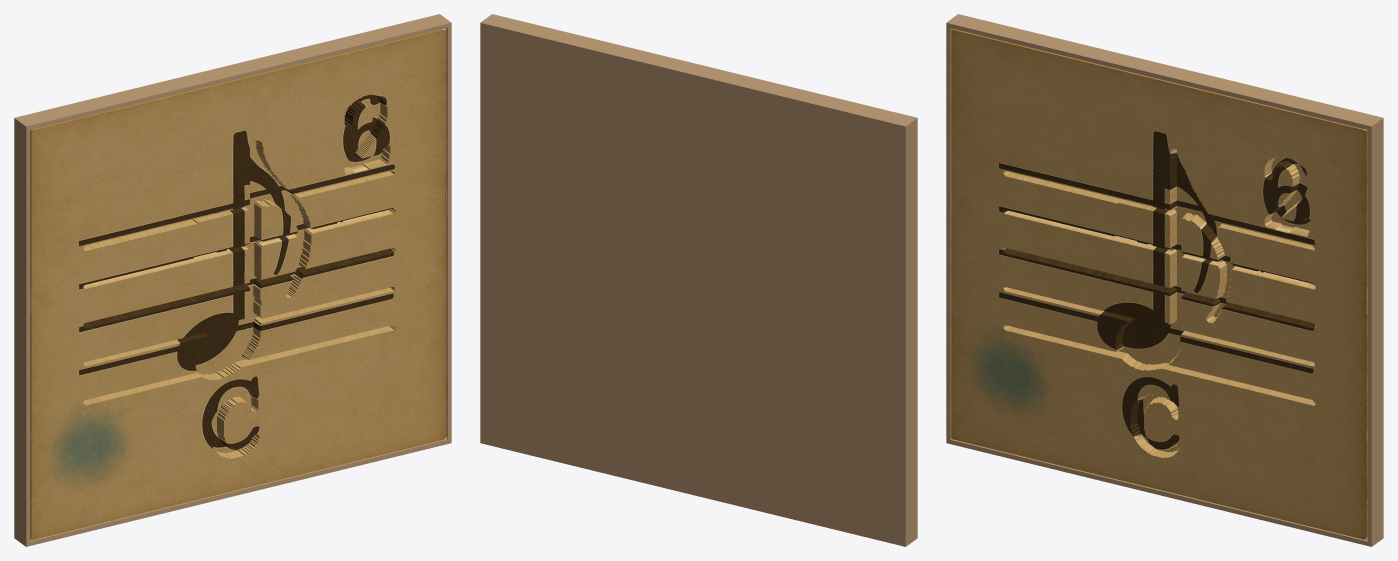
The model's file is note2.fbx.
The picture shows the model from 3 angles, left to right: view 1: azimuth 30°, elevation 25°; view 2: azimuth 150°, elevation 25°; view 3: azimuth 330°, elevation 25°; orthographic projection.
Parts seen in each view (by area): view 1: nodes[0]; view 2: nodes[0]; view 3: nodes[0].
Part boxes in pixels (x1=…): nodes[0]: x1=14, y1=14, x2=451, y2=546; nodes[0]: x1=480, y1=14, x2=917, y2=546; nodes[0]: x1=946, y1=14, x2=1383, y2=546.
Bounding box in the file's own units: 410 × 387 × 20.
